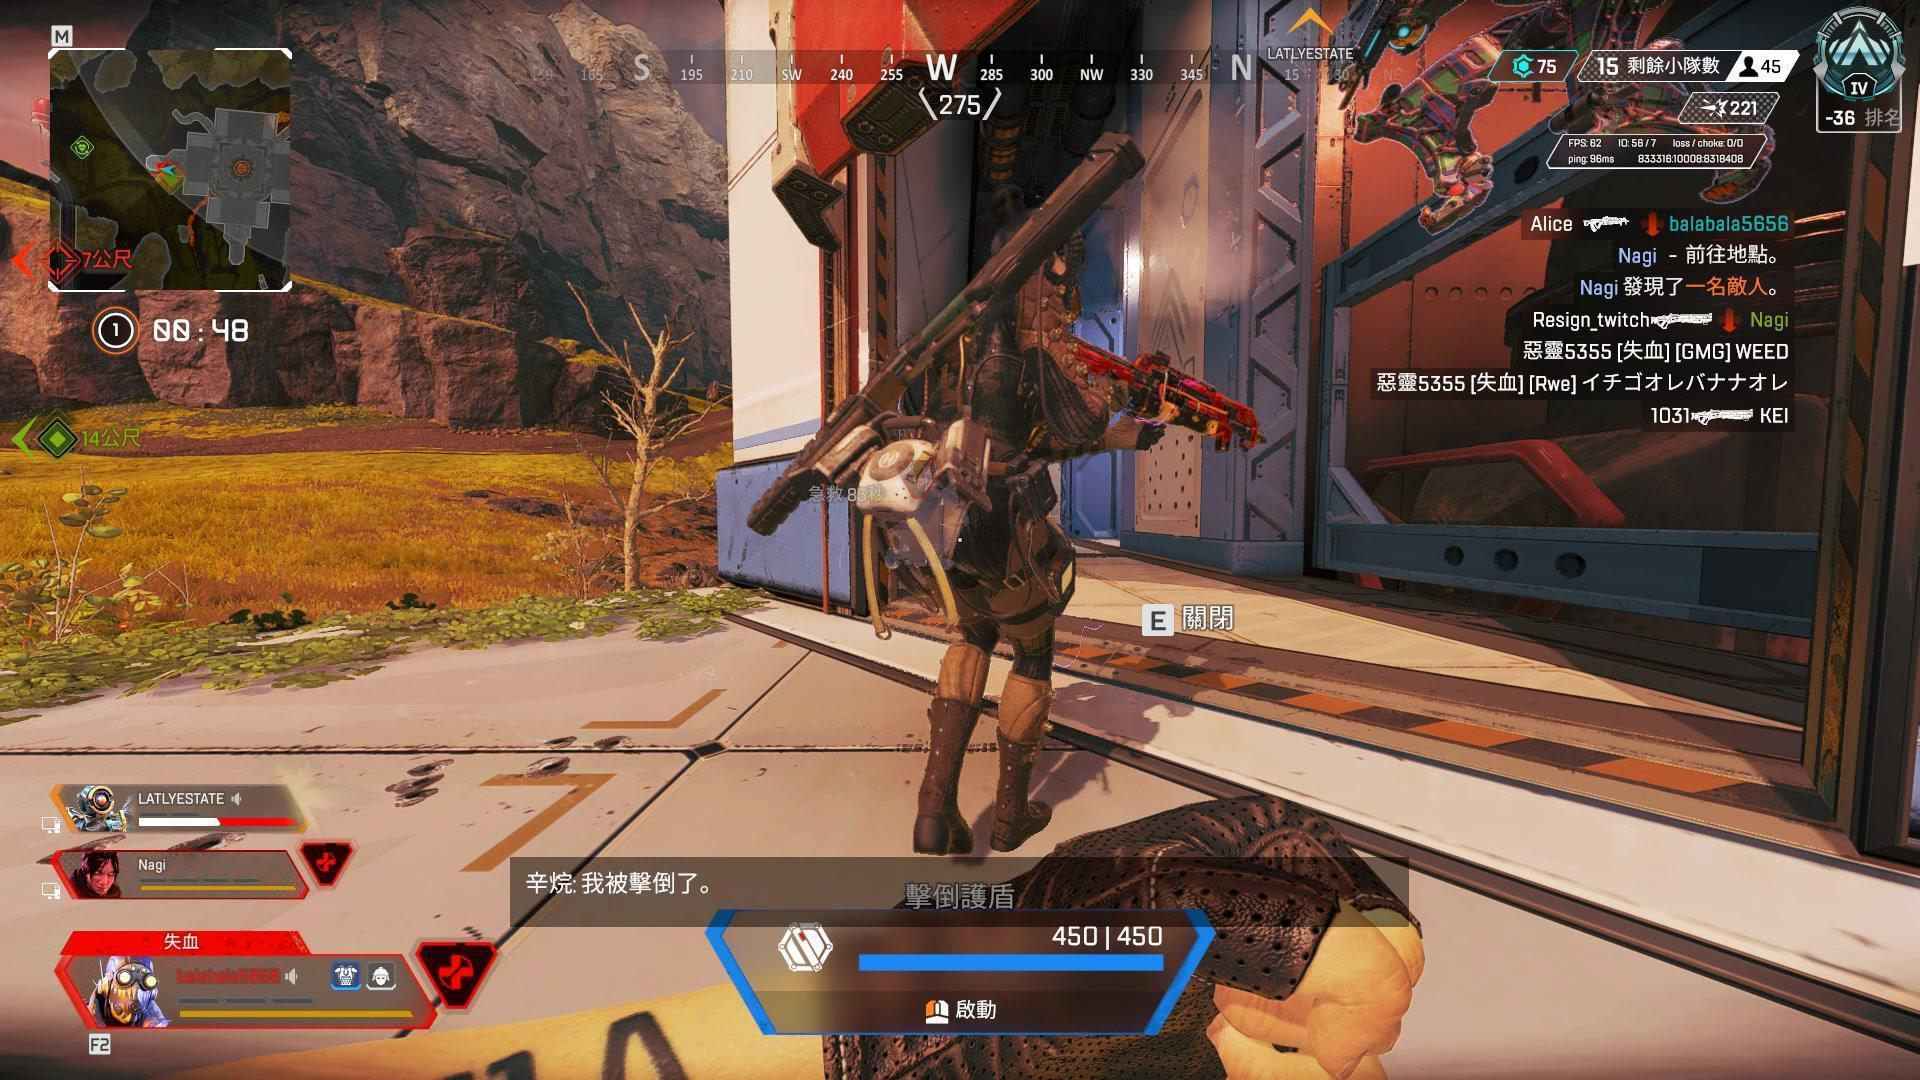avatar: (853, 203, 1114, 860)
